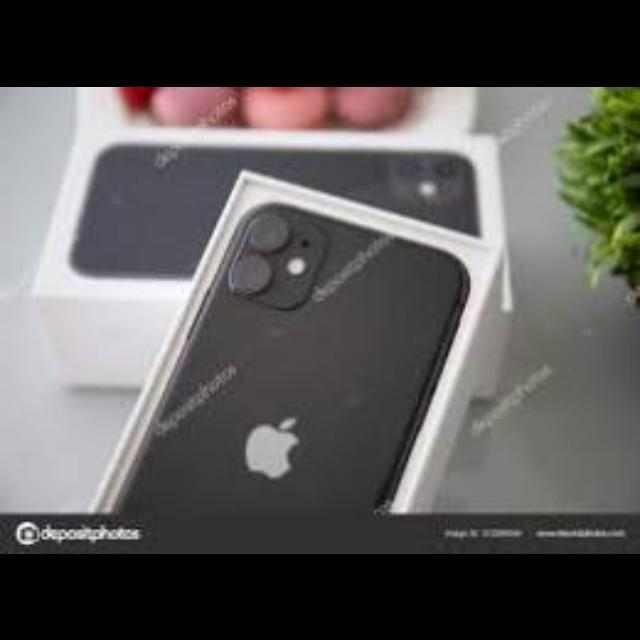phone: (72, 163, 512, 509)
